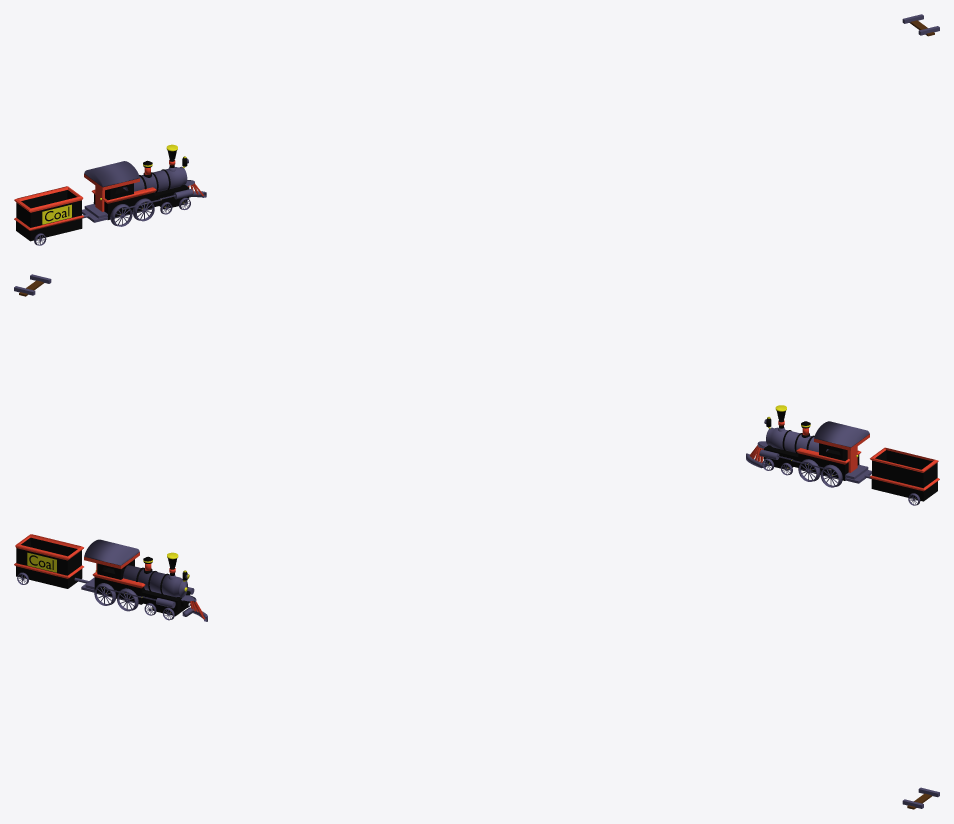
File: train6.glb
3 renders of one model, top to bottom at view 1: azimuth 30°, elevation 25°; view 2: azimuth 150°, elevation 25°; view 3: azimuth 330°, elevation 25°, orthographic.
Parts seen in each view (by area): view 1: Cube.015, Circle, Cube, Cube.001; view 2: Cube.015, Circle, Cube, Cube.001; view 3: Cube.015, Circle, Cube.
Boxes of the visible parts, x1,y1,x2,y2 form: Cube.015: (14,186,83,241); Circle: (84,161,139,186); Cube: (91,187,156,219); Cube.001: (84,173,139,199); Cube.015: (870,447,939,501); Circle: (814,421,869,447); Cube: (796,448,861,480); Cube.001: (814,434,869,460); Cube.015: (14,534,83,588); Circle: (84,539,139,565); Cube: (92,571,145,604).
Bounding box in the file's own units: 29.74 × 1.98 × 1.25.
